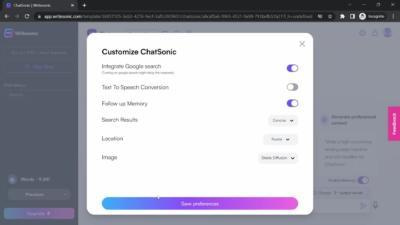button: (102, 198, 299, 211)
dropdown: (258, 151, 299, 165), (265, 134, 300, 147), (267, 116, 300, 129)
switch: (285, 83, 300, 93), (287, 64, 301, 74), (286, 99, 300, 109), (358, 176, 370, 186)
